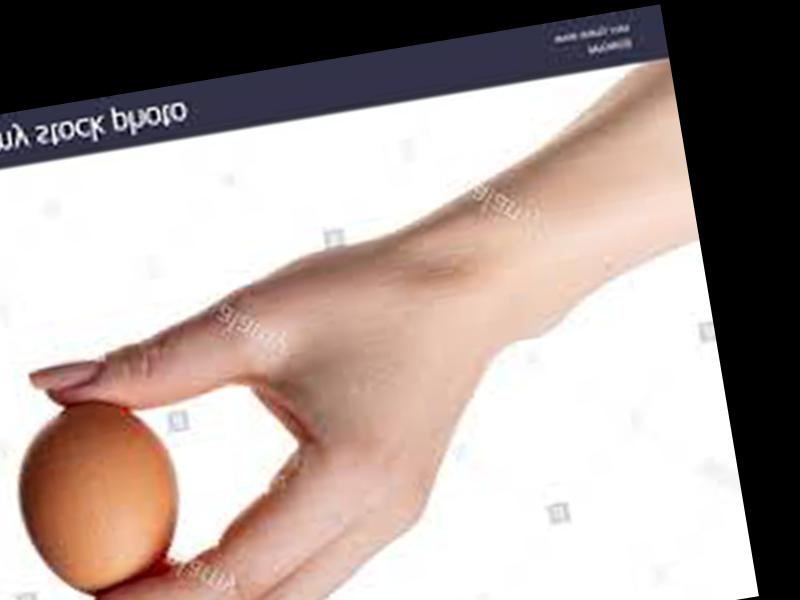Eggs: (4, 389, 199, 600)
